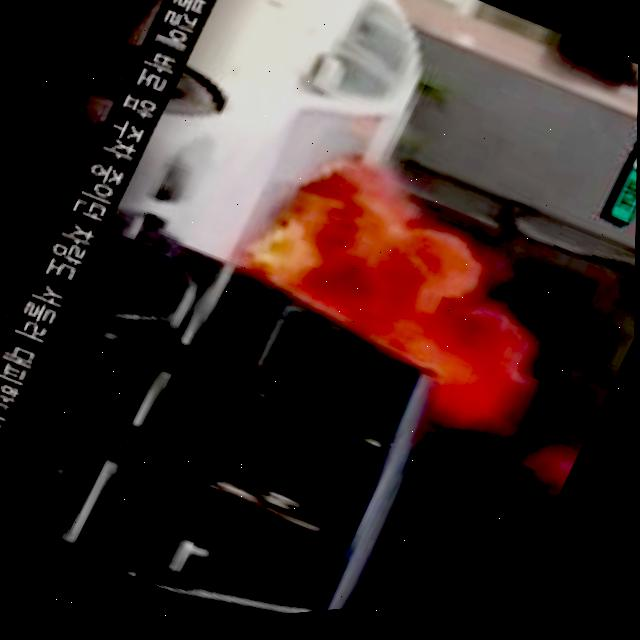Fire: (218, 157, 566, 460)
